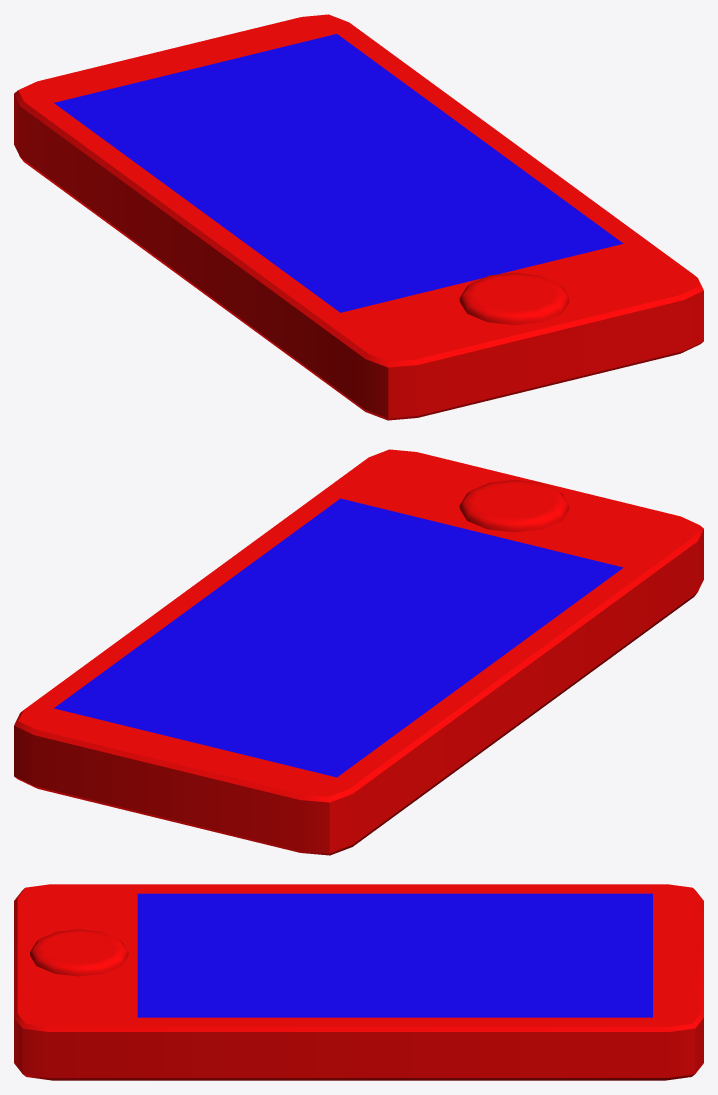
Rendered from Reciever.FBX.
3 views of the same model, one above another, from view 1: azimuth 30°, elevation 25°; view 2: azimuth 150°, elevation 25°; view 3: azimuth 270°, elevation 25° (orthographic). The views are drawn at different scales.
Parts seen in each view (by area): view 1: Box003; view 2: Box003; view 3: Box003.
Boxes of the visible parts, x1,y1,x2,y2 form: Box003: (14,14,703,420); Box003: (14,449,703,855); Box003: (14,884,703,1080).
Size of the model in its own units: 70 by 13.46 by 140.
